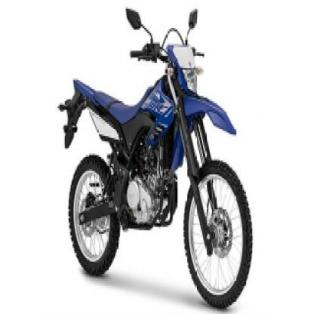Motocicleta: (58, 3, 257, 307)
